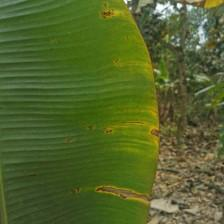pestalotiopsis: (0, 0, 159, 224)
